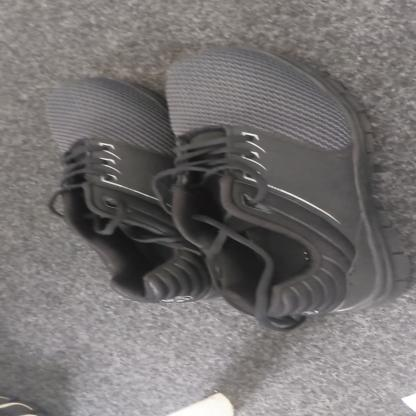safety-shoe: (46, 45, 412, 315)
